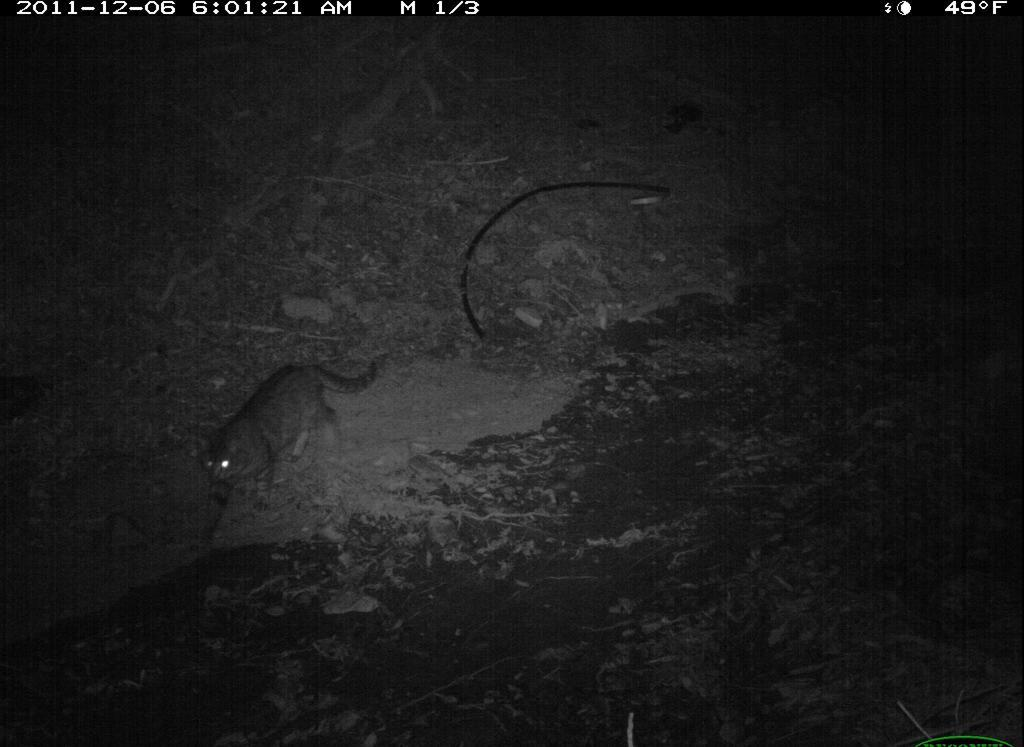cat: (195, 351, 378, 541)
